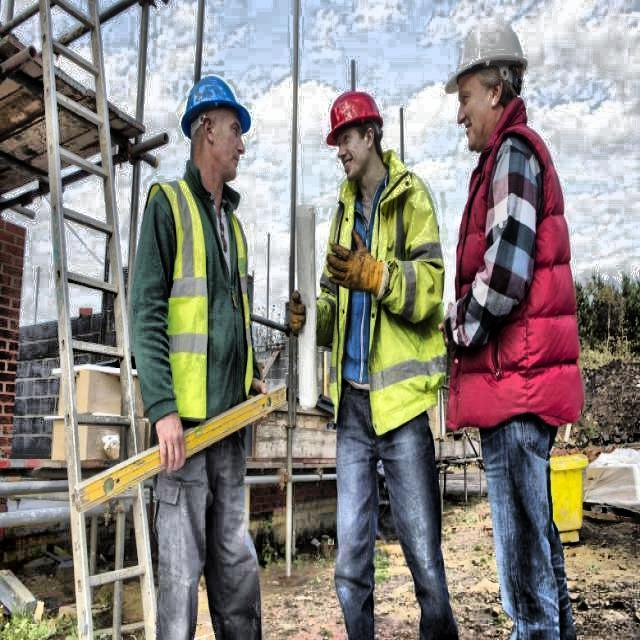safety_jacket: (317, 151, 448, 435), (144, 179, 254, 425)
